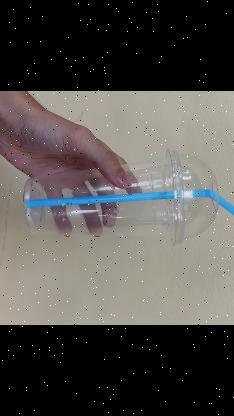Others: (25, 149, 234, 249)
